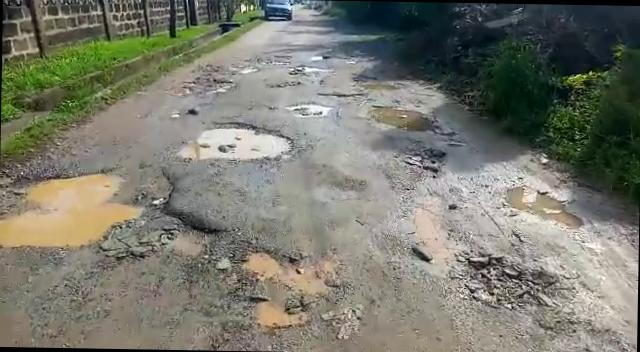pothole: (0, 165, 224, 260), (202, 243, 350, 336), (453, 252, 567, 314), (184, 120, 304, 164), (504, 185, 587, 231), (368, 104, 441, 134), (388, 148, 448, 173), (174, 75, 238, 98), (288, 100, 330, 116), (316, 88, 364, 97), (287, 64, 330, 74), (269, 78, 308, 88), (229, 64, 262, 74)
